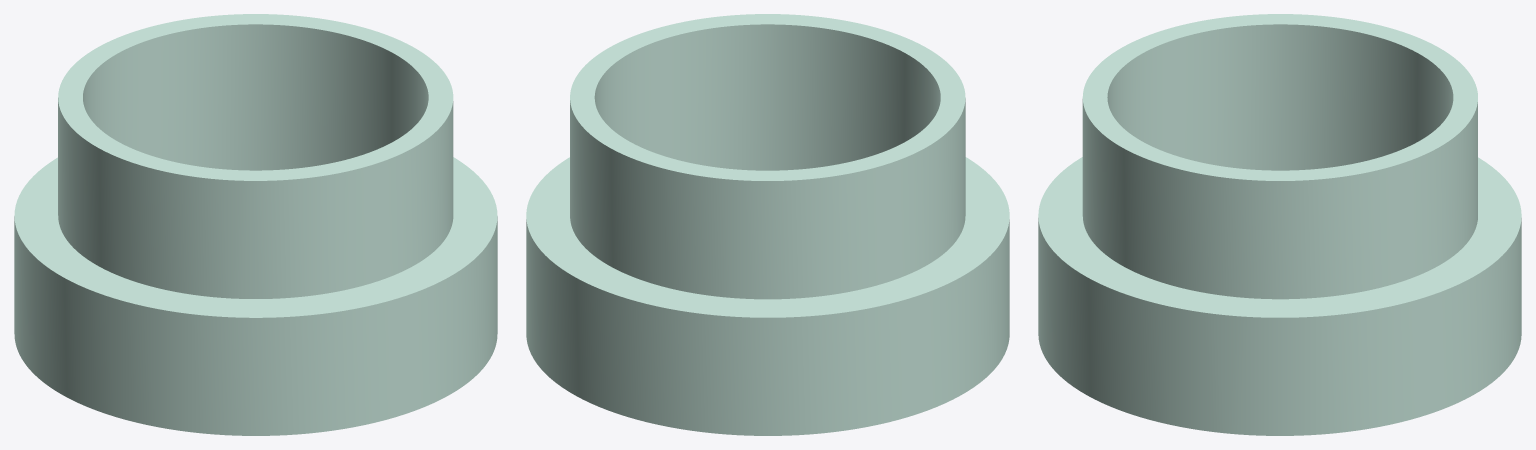
3 views of the same model, side by side, from view 1: azimuth 30°, elevation 25°; view 2: azimuth 150°, elevation 25°; view 3: azimuth 270°, elevation 25° (orthographic).
Visible parts, largest first — view 1: Renderer Node; view 2: Renderer Node; view 3: Renderer Node.
Part boxes in pixels (bbox=[...]): Renderer Node: bbox=[14, 14, 497, 435]; Renderer Node: bbox=[526, 14, 1009, 435]; Renderer Node: bbox=[1038, 14, 1521, 435].
Bounding box in the file's own units: 1.39 × 0.75 × 1.39.
